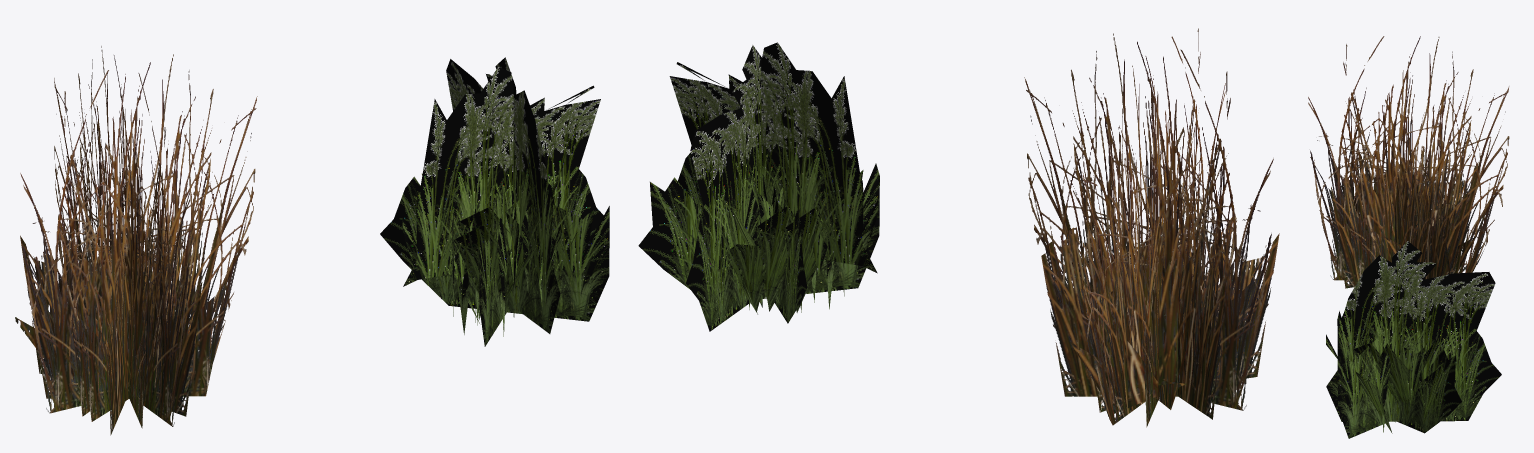
The model's file is Foliage.FBX.
3 views of the same model, side by side, from view 1: azimuth 30°, elevation 25°; view 2: azimuth 150°, elevation 25°; view 3: azimuth 270°, elevation 25° (orthographic). The views are drawn at different scales.
Visible parts, largest first — view 1: Foliage_1, Foliage_2; view 2: Foliage_1, Foliage_2; view 3: Foliage_2, Foliage_1.
Part boxes in pixels (x1,y1,x2,y2): Foliage_1: (15,46,257,435); Foliage_2: (380,57,609,346); Foliage_1: (1024,28,1279,427); Foliage_2: (638,42,879,331); Foliage_2: (1326,241,1501,438); Foliage_1: (1308,36,1509,288).
Size of the model in its own units: 122 by 51.54 by 68.33.
2 materials, 2 textured.
